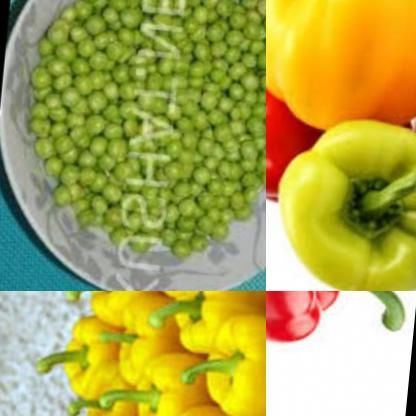bell pepper: (271, 100, 416, 291), (266, 0, 416, 136), (266, 46, 336, 208), (266, 291, 416, 347), (132, 342, 230, 416), (112, 291, 190, 383), (203, 304, 266, 416), (171, 291, 266, 358), (55, 306, 120, 395), (79, 356, 147, 416), (83, 291, 157, 321)
peas: (22, 0, 266, 264)
